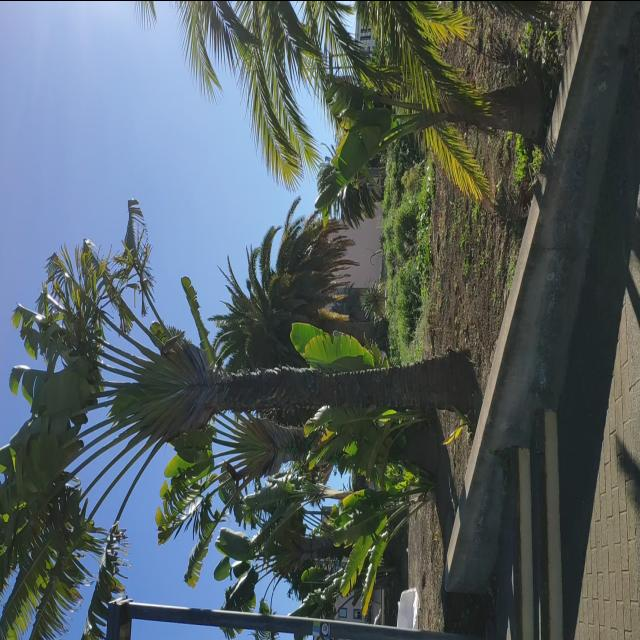Palm-Trees: (6, 229, 474, 553), (210, 253, 388, 423)
